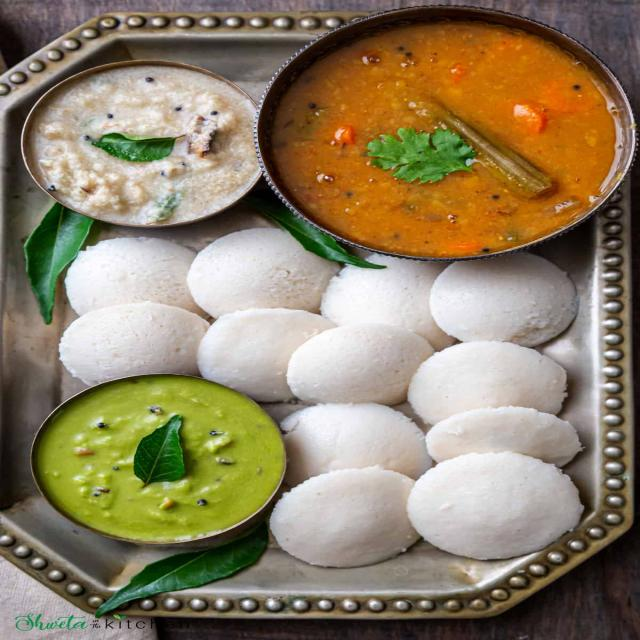Idly: (267, 462, 430, 580), (422, 444, 586, 560), (419, 252, 590, 358), (43, 222, 207, 326), (275, 313, 430, 419), (403, 336, 583, 427), (301, 248, 457, 350), (272, 400, 435, 497), (184, 220, 346, 316), (48, 303, 212, 392), (430, 402, 602, 472), (211, 299, 321, 399)
